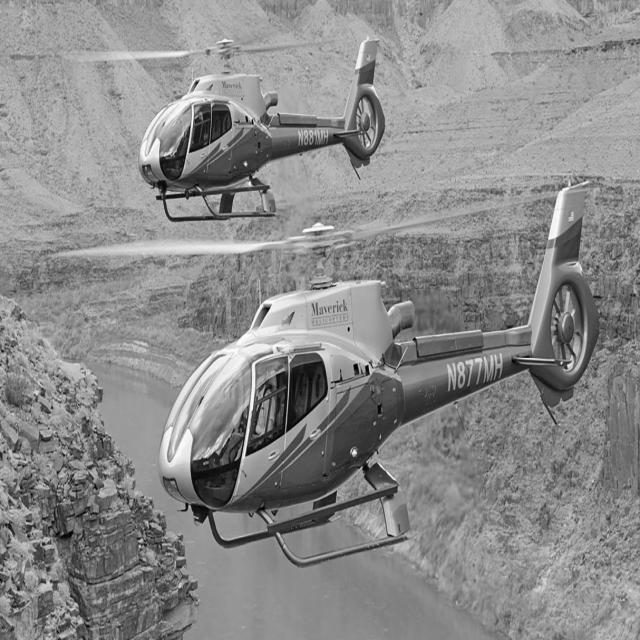helicopter: (148, 177, 628, 583), (134, 25, 395, 233)
